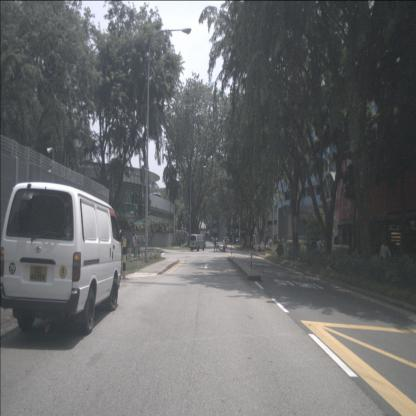human-pedestrian-adult: (379, 239, 392, 286), (316, 237, 322, 264), (312, 238, 316, 262), (134, 234, 138, 258), (280, 235, 284, 256), (213, 236, 218, 252), (268, 235, 272, 254), (310, 238, 313, 261), (307, 236, 310, 258), (224, 237, 228, 253), (222, 237, 226, 252), (320, 239, 323, 258), (179, 235, 182, 248), (240, 235, 242, 248), (176, 234, 178, 247), (251, 238, 253, 251), (242, 237, 244, 249)
vehicle-car: (0, 183, 122, 334), (189, 235, 206, 252), (224, 236, 230, 244)
